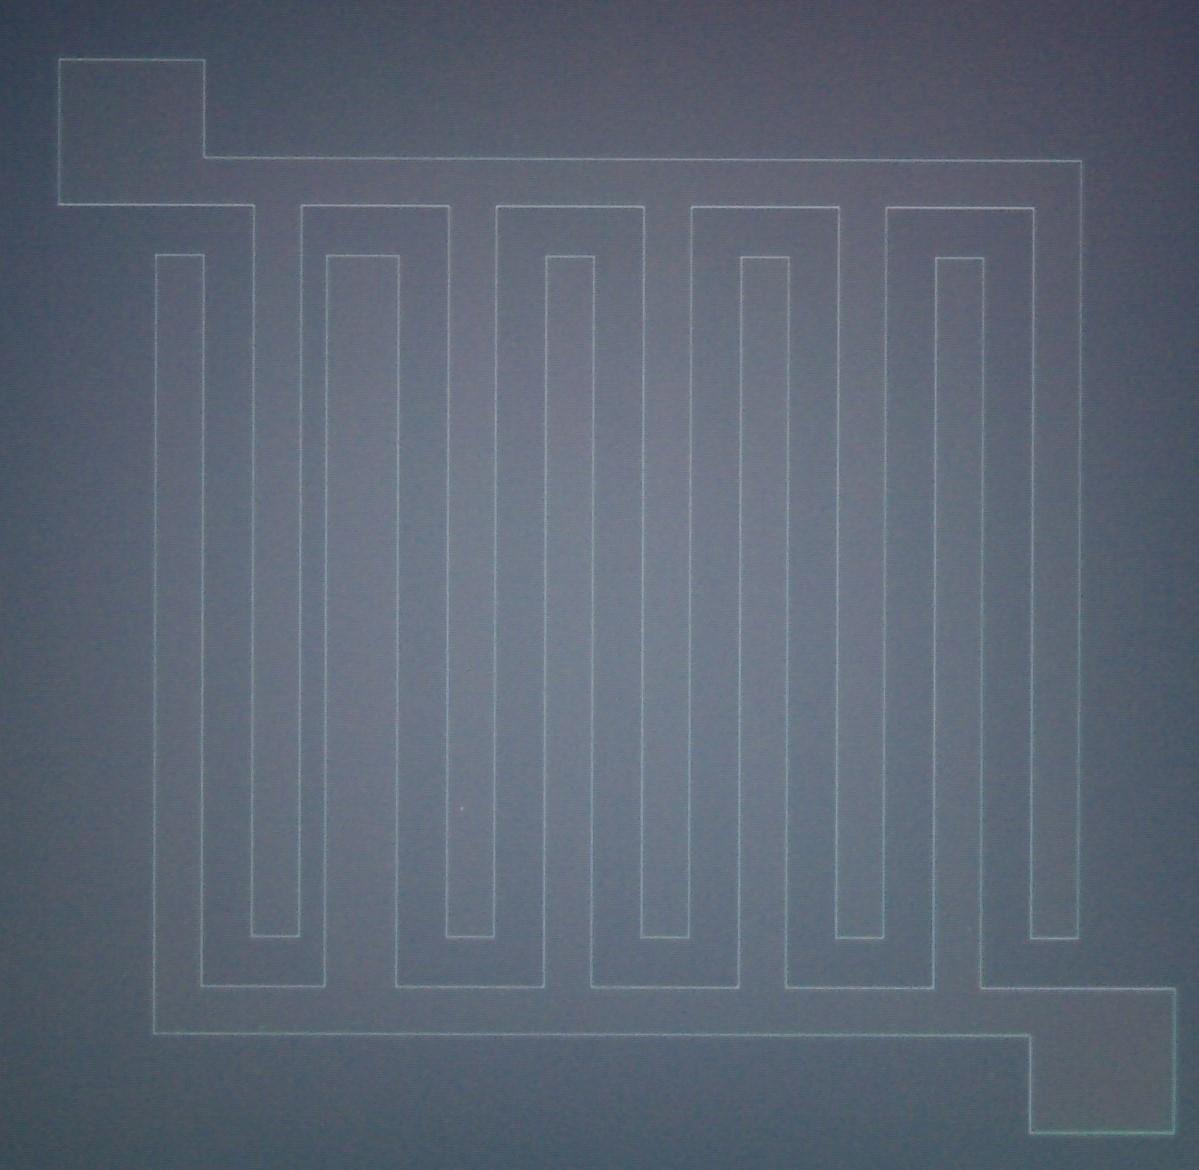width: (214, 178, 514, 1017)
